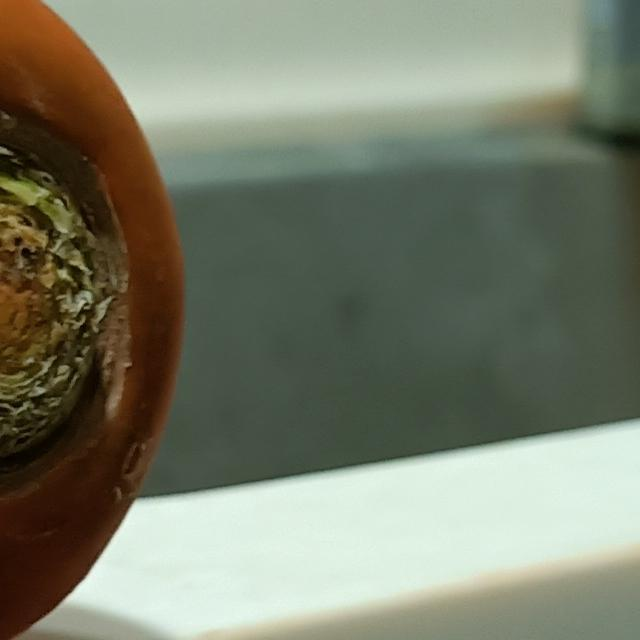carrot: (1, 1, 197, 640)
